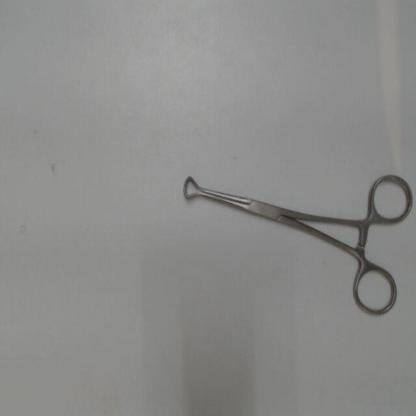Babcock Tissue Forceps: (179, 166, 415, 322)
